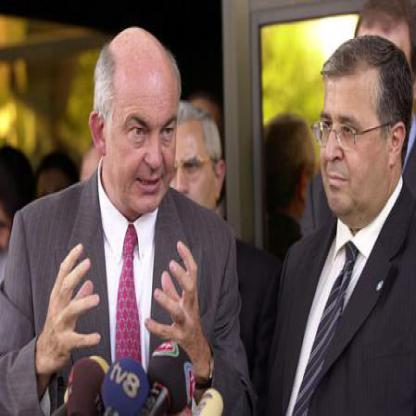face: (310, 49, 393, 220), (106, 36, 183, 215), (161, 110, 217, 238)
